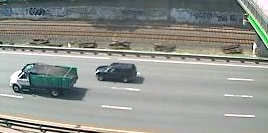car: (6, 60, 81, 99), (93, 61, 141, 85)
